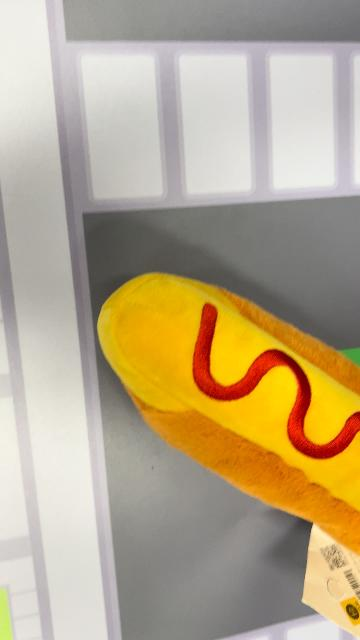hotdog: (96, 270, 360, 556)
